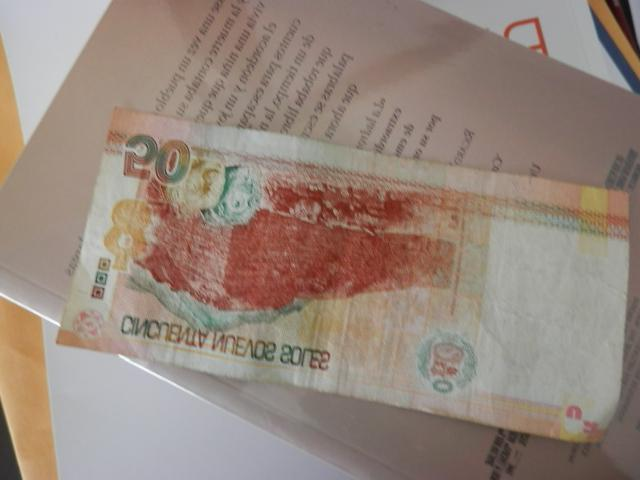B50: (56, 107, 630, 445)
